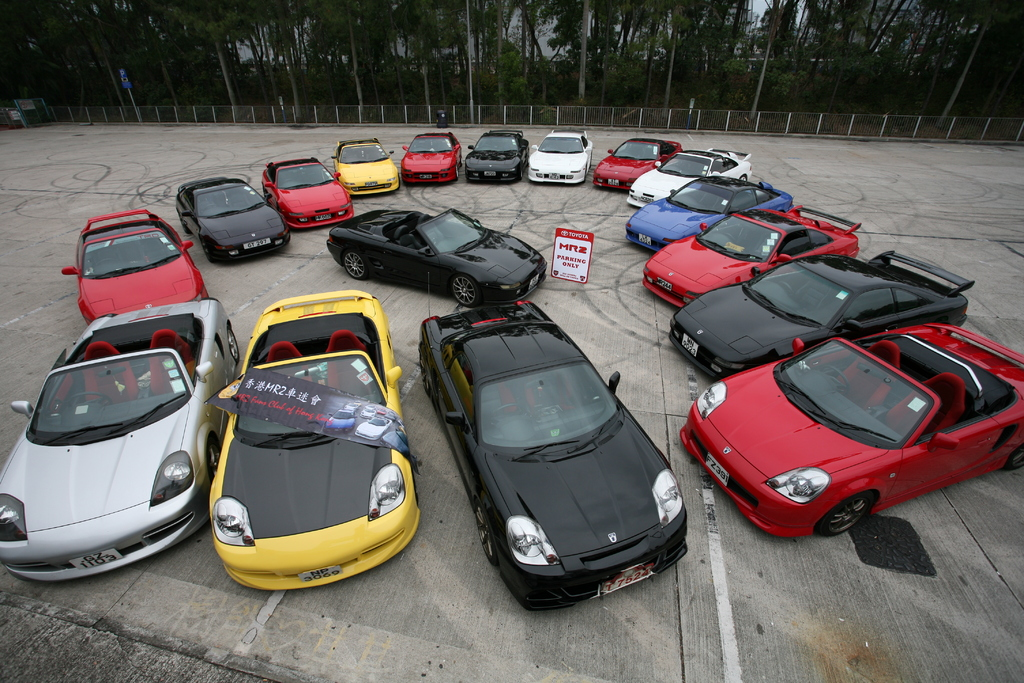Car: (416, 272, 688, 614), (680, 312, 994, 541), (0, 304, 236, 582), (209, 288, 423, 593), (666, 246, 976, 376), (322, 205, 551, 309), (640, 204, 862, 309), (61, 209, 212, 324), (627, 170, 792, 251), (172, 176, 293, 267), (622, 144, 751, 206), (262, 155, 356, 230), (591, 135, 682, 188), (323, 398, 408, 452), (330, 135, 403, 195), (527, 125, 596, 183), (398, 130, 464, 183), (461, 129, 529, 180)
